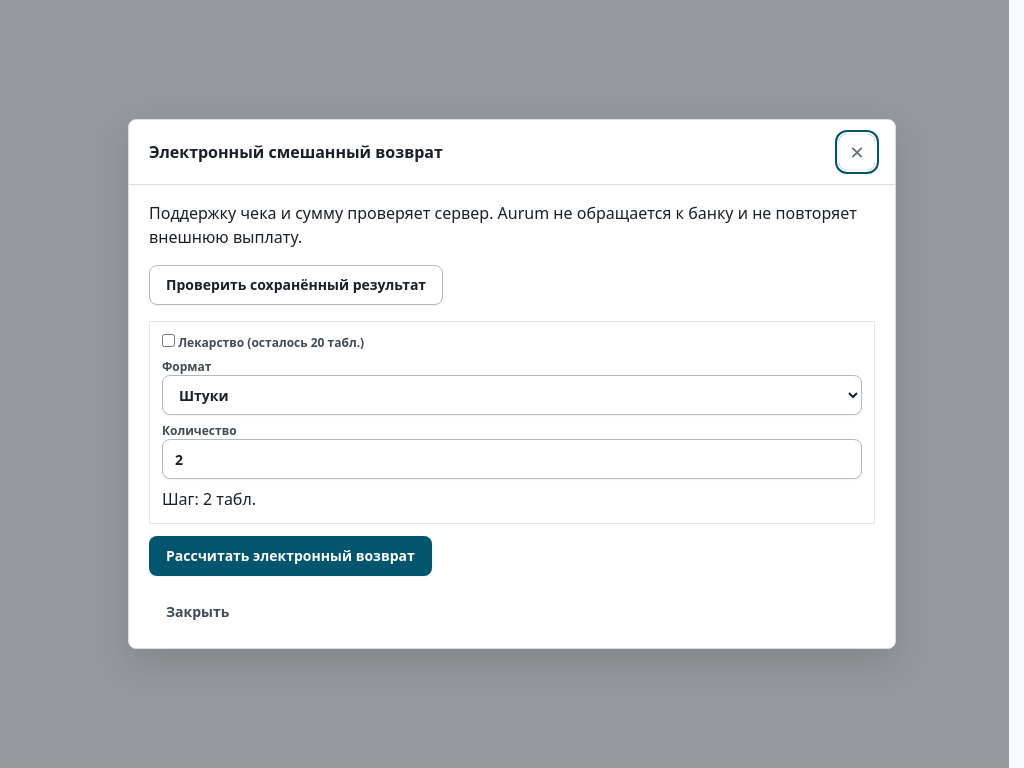
cashier electronic refund form › rejects non-whole/non-step/excess quantity 1
The width and height of the screenshot is (1024, 768).
Expected: the field named "Количество: Лекарство" is shown, [162, 439, 862, 479]
Click the checkbox. click: (168, 340)
box: [162, 334, 175, 347]
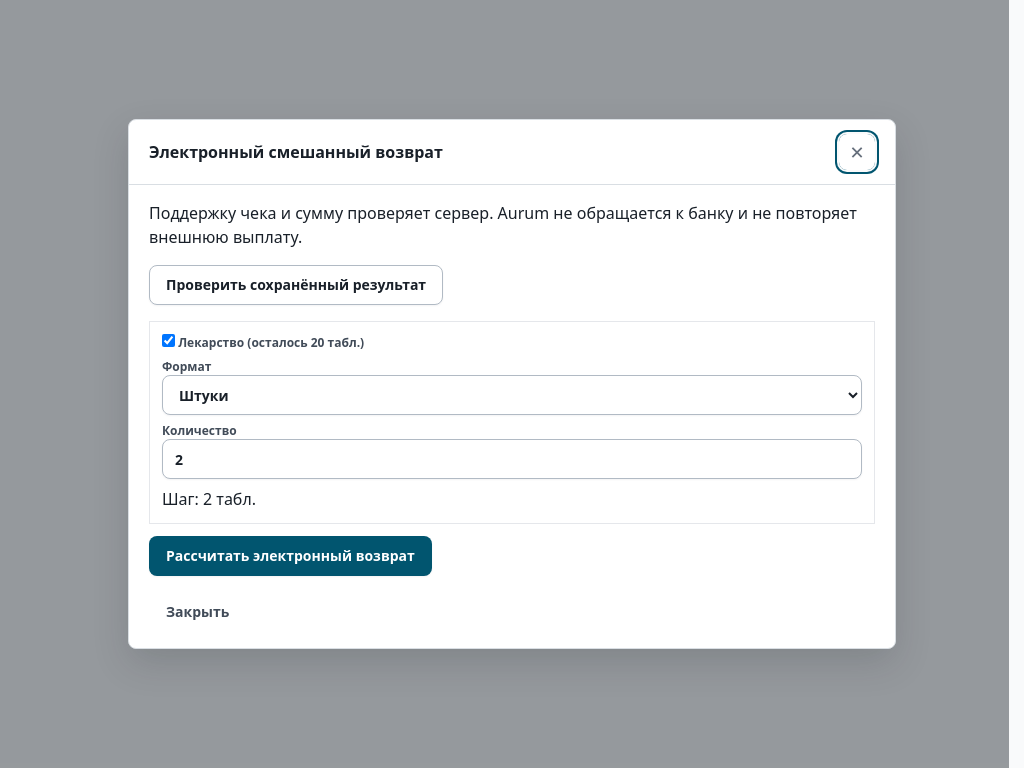
Replace the text in the field named "Количество: Лекарство" with "1". click: (512, 459)
box: [162, 439, 862, 479]
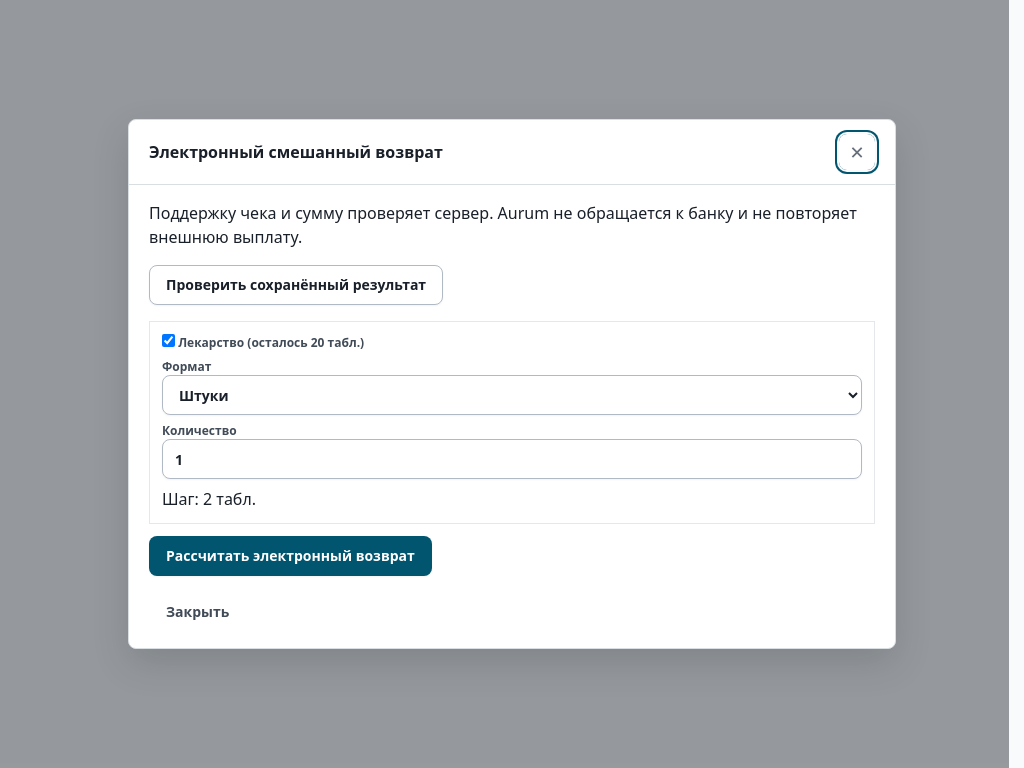
Submit the form named "Рассчитать электронный возврат", box [149, 321, 875, 576]
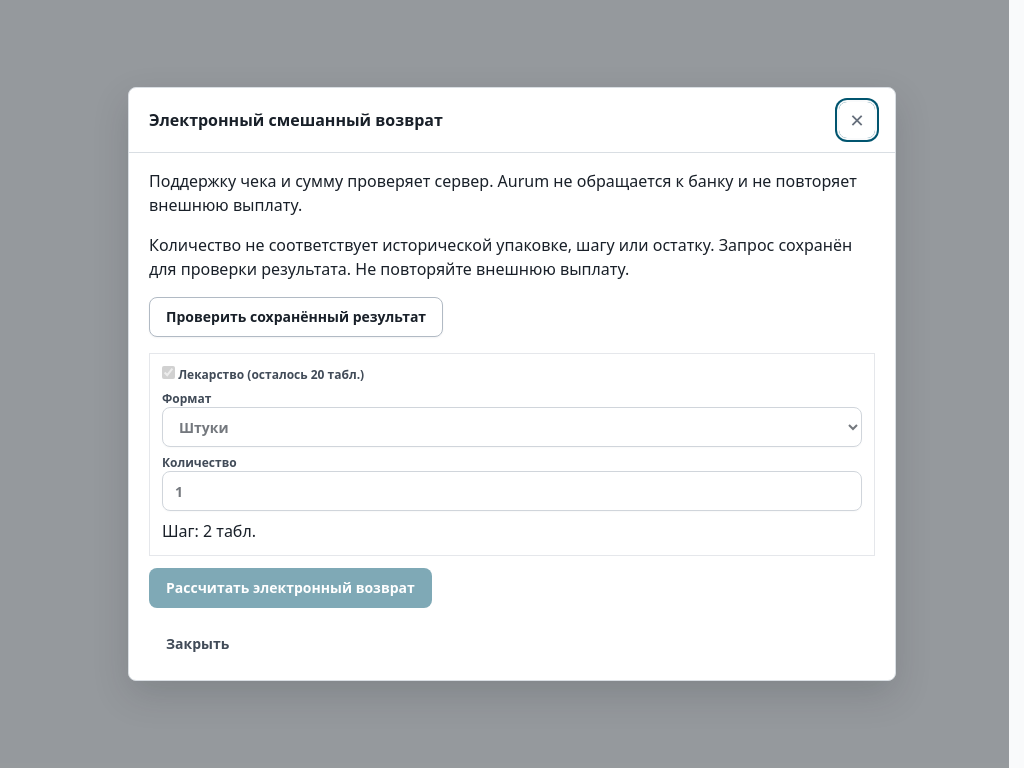
Now the message is shown, box [149, 233, 875, 281]
